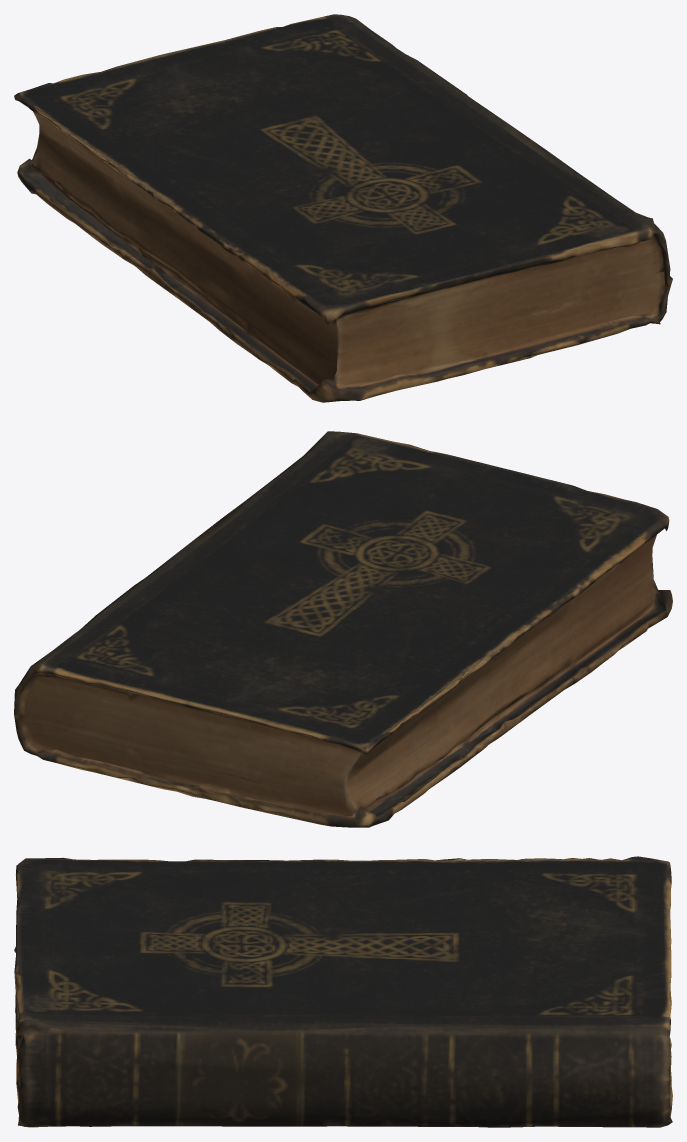
The model's file is SM_Prop_Book_C.fbx.
3 renders of one model, top to bottom at view 1: azimuth 30°, elevation 25°; view 2: azimuth 150°, elevation 25°; view 3: azimuth 270°, elevation 25°, orthographic. The views are drawn at different scales.
Visible parts, largest first — view 1: SM_Prop_Book_C_LOD0; view 2: SM_Prop_Book_C_LOD0; view 3: SM_Prop_Book_C_LOD0.
Boxes of the visible parts, x1,y1,x2,y2 form: SM_Prop_Book_C_LOD0: [14, 14, 672, 402]; SM_Prop_Book_C_LOD0: [14, 431, 672, 827]; SM_Prop_Book_C_LOD0: [14, 856, 672, 1127].
Size of the model in its own units: 20.87 by 31.75 by 5.79.
1 material, 1 textured.
